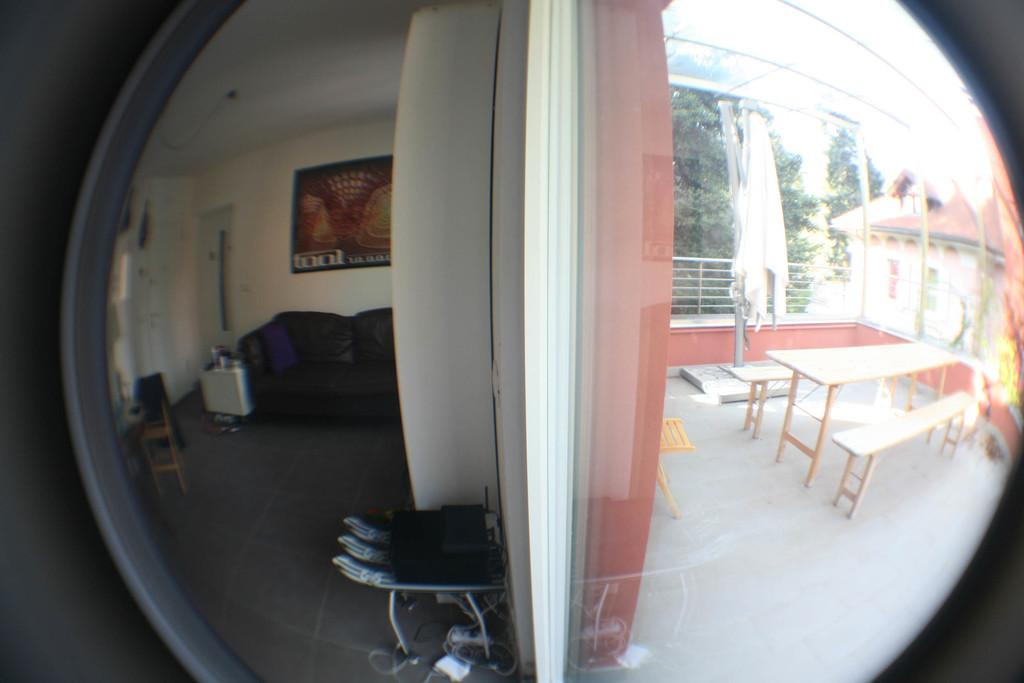Chair: (136, 395, 191, 494), (650, 420, 689, 517)
